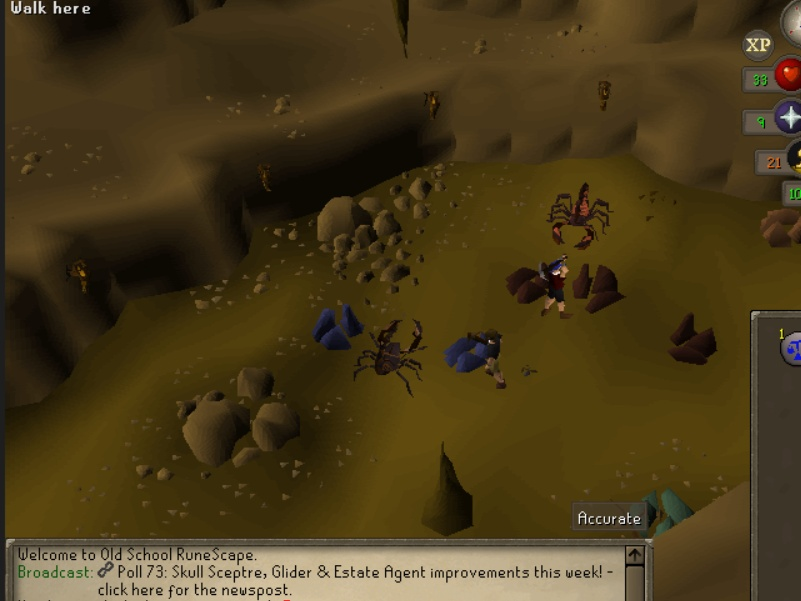adamant: (629, 485, 698, 541)
copper: (757, 199, 801, 250)
iron: (664, 307, 724, 371), (570, 256, 630, 320), (505, 264, 555, 305)
mithril: (310, 299, 367, 354), (439, 326, 496, 381)
